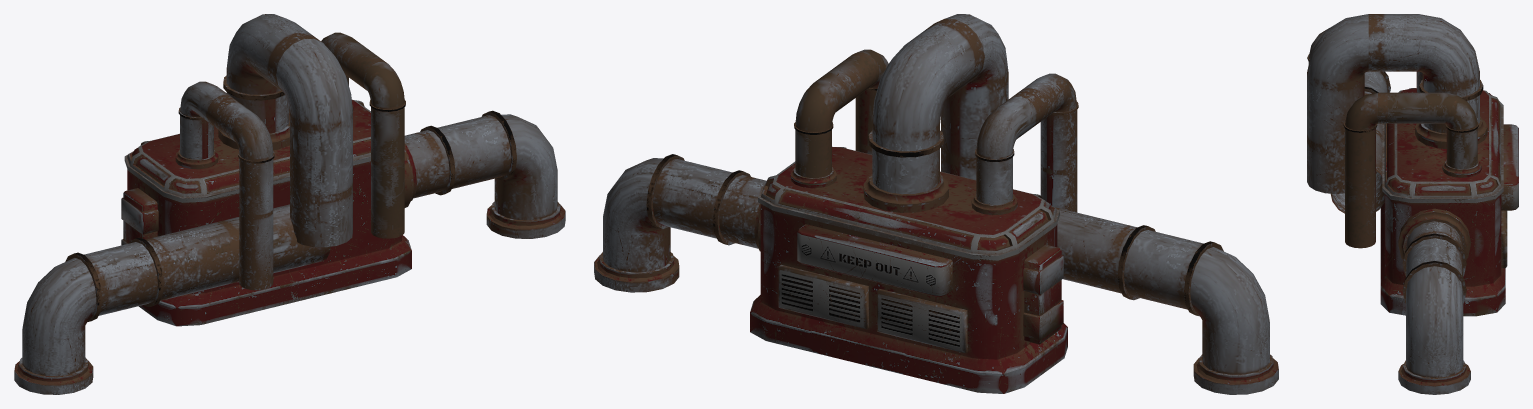
File: barrier_02.fbx
The picture shows the model from 3 angles, left to right: view 1: azimuth 30°, elevation 25°; view 2: azimuth 150°, elevation 25°; view 3: azimuth 270°, elevation 25°; orthographic projection. The views are drawn at different scales.
Visible parts, largest first — view 1: Powerdevice_02, pipe_hor_02, pipe_vert_01, pipe_hor_01, pipe_vert_02, pipe_vert_03; view 2: Powerdevice_02, pipe_hor_02, pipe_vert_01, pipe_hor_01, pipe_vert_02, pipe_vert_03; view 3: Powerdevice_02, pipe_vert_01, pipe_hor_01, pipe_vert_03, pipe_hor_02, pipe_vert_02.
Boxes of the visible parts, x1,y1,x2,y2 form: Powerdevice_02: (121,99,417,326); pipe_hor_02: (14,204,330,394); pipe_vert_01: (223,14,352,247); pipe_hor_01: (404,110,565,238); pipe_vert_02: (178,81,274,290); pipe_vert_03: (321,32,405,238); Powerdevice_02: (750,146,1067,393); pipe_hor_02: (1055,207,1278,394); pipe_vert_01: (868,14,1008,194); pipe_hor_01: (594,154,766,292); pipe_vert_02: (975,73,1078,212); pipe_vert_03: (794,49,888,177); Powerdevice_02: (1380,88,1518,316); pipe_vert_01: (1307,14,1483,193); pipe_hor_01: (1398,221,1470,394); pipe_vert_03: (1343,92,1478,248); pipe_hor_02: (1330,71,1390,213); pipe_vert_02: (1307,29,1422,92).
Size of the model in its own units: 3518 by 1574 by 1218.
